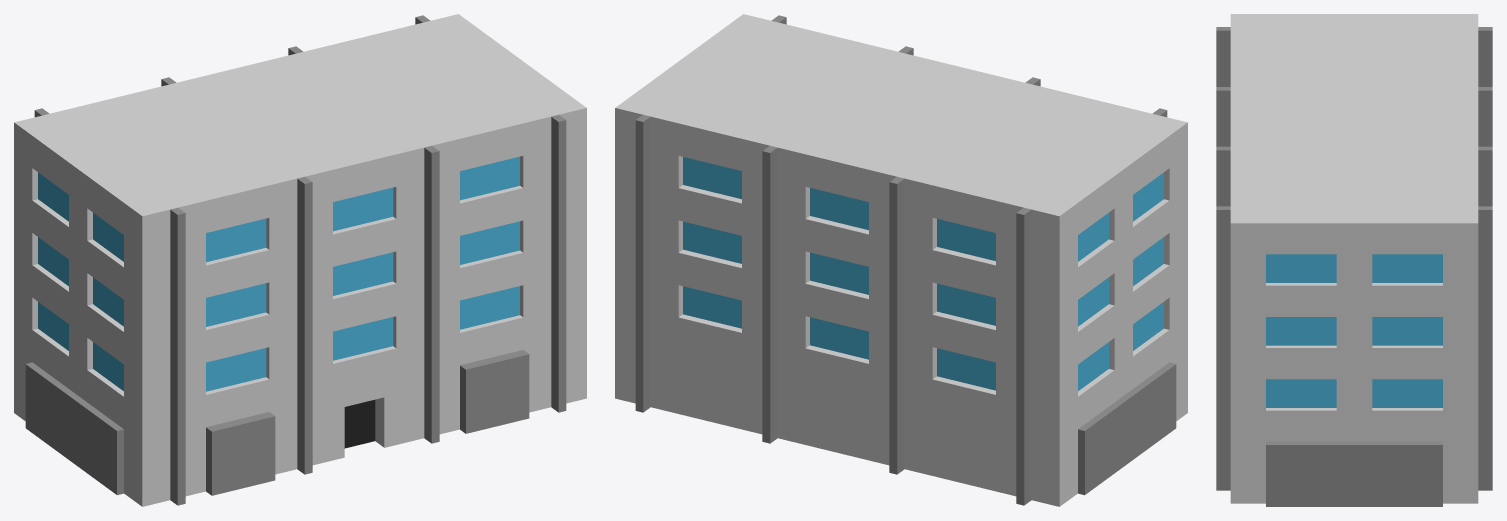
The model's file is Edificio2.fbx.
The picture shows the model from 3 angles, left to right: view 1: azimuth 30°, elevation 25°; view 2: azimuth 150°, elevation 25°; view 3: azimuth 270°, elevation 25°; orthographic projection. The views are drawn at different scales.
Parts seen in each view (by area): view 1: Cube.001; view 2: Cube.001; view 3: Cube.001.
Boxes of the visible parts, box(x1,y1,x2,y2) form: Cube.001: box(14, 14, 586, 506); Cube.001: box(615, 14, 1187, 506); Cube.001: box(1216, 14, 1492, 506).
Size of the model in its own units: 413 by 250 by 223.
